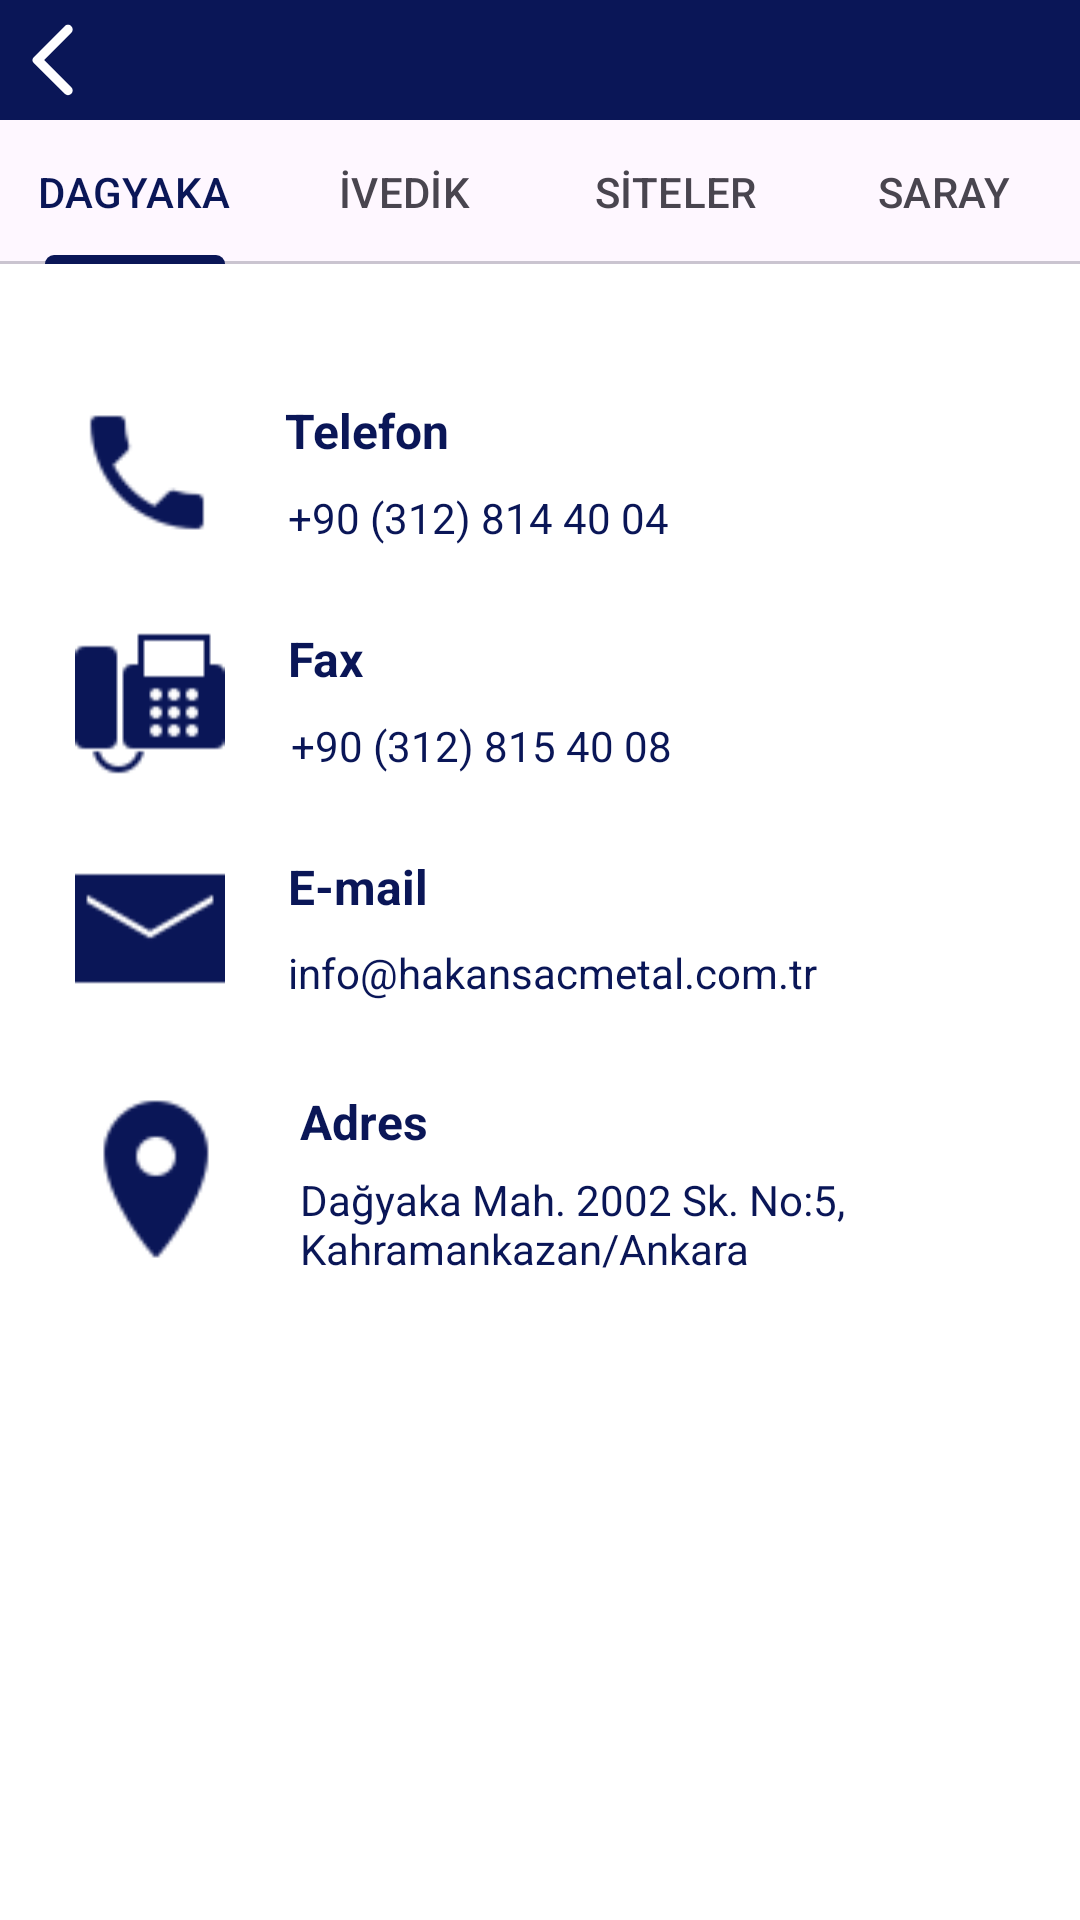

Icon click points for this 1080px×1920px phone screenshot, format (x,y):
back: (52,60)
location: (156,1179)
phone: (147,472)
